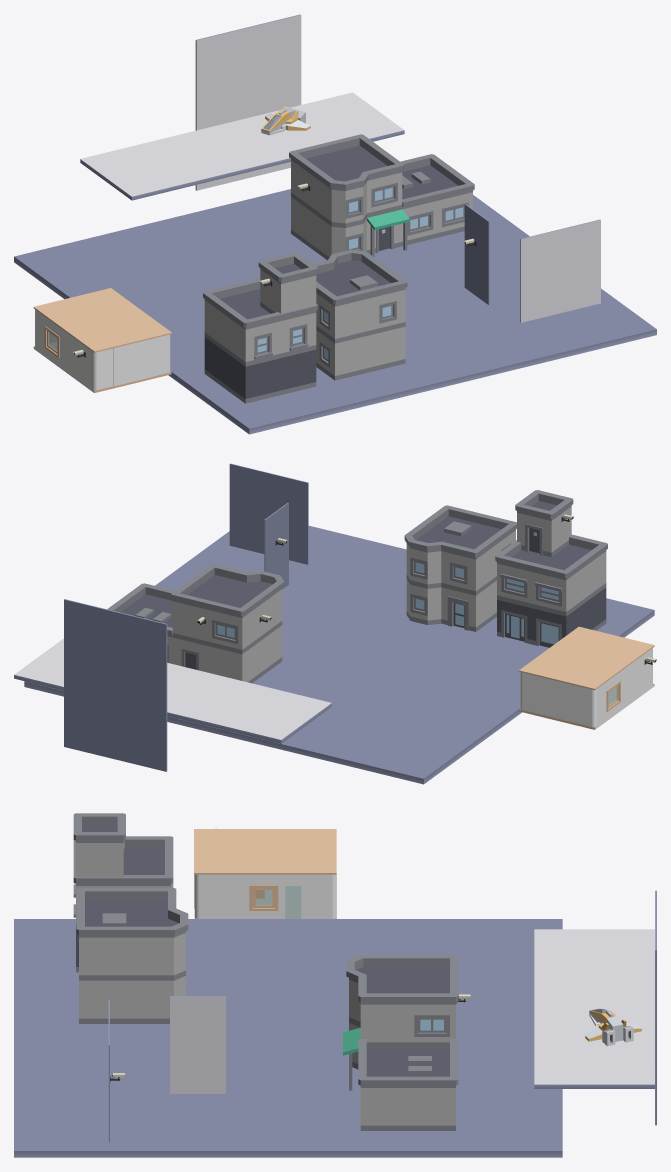
File: notbad233x.glb
The picture shows the model from 3 angles, top to bottom: view 1: azimuth 30°, elevation 25°; view 2: azimuth 150°, elevation 25°; view 3: azimuth 270°, elevation 25°; orthographic projection. The views are drawn at different scales.
Parts seen in each view (by area): view 1: floor, small_buildingE, small_buildingF, floor.004, floor.003, small_buildingB, floor.001, floorFull(Clone), floor.002, wallCornerRond(Clone), wall(Clone).001, craft_speederA (+2 smaller); view 2: floor, floor.003, small_buildingF, small_buildingE, small_buildingB, floor.004, floor.001, floorFull(Clone), wallCornerRond(Clone).002, floor.002, wallWindow(Clone).001, wallCornerRond(Clone) (+2 smaller); view 3: floor, small_buildingE, floor.004, small_buildingB, small_buildingF, floorFull(Clone), floor.002, wallWindow(Clone), wallCornerRond(Clone).005, wallCornerRond(Clone).007, craft_speederA, Floor.002.
Boxes of the visible parts, <box> form: floor: <box>14,189,656,434</box>; small_buildingE: <box>289,134,474,260</box>; small_buildingF: <box>203,252,317,403</box>; floor.004: <box>80,92,404,200</box>; floor.003: <box>195,14,301,190</box>; small_buildingB: <box>313,250,407,380</box>; floor.001: <box>520,219,600,322</box>; floorFull(Clone): <box>33,288,171,352</box>; floor.002: <box>464,204,489,304</box>; wallCornerRond(Clone): <box>70,335,112,390</box>; wall(Clone).001: <box>113,338,153,386</box>; craft_speederA: <box>261,106,310,135</box>; floor: <box>24,525,654,784</box>; floor.003: <box>64,599,167,771</box>; small_buildingF: <box>495,490,607,647</box>; small_buildingE: <box>107,564,284,683</box>; small_buildingB: <box>404,505,516,631</box>; floor.004: <box>14,638,331,743</box>; floor.001: <box>229,463,308,564</box>; floorFull(Clone): <box>519,626,654,690</box>; wallCornerRond(Clone).002: <box>537,676,604,727</box>; floor.002: <box>264,503,288,589</box>; wallWindow(Clone).001: <box>604,664,630,720</box>; wallCornerRond(Clone): <box>630,648,652,701</box>; floor: <box>14,919,562,1157</box>; small_buildingE: <box>343,954,458,1130</box>; floor.004: <box>534,929,654,1088</box>; small_buildingB: <box>76,888,188,1023</box>; small_buildingF: <box>73,813,173,972</box>; floorFull(Clone): <box>194,829,336,874</box>; floor.002: <box>170,996,225,1093</box>; wallWindow(Clone): <box>234,874,285,918</box>; wallCornerRond(Clone).005: <box>194,874,234,918</box>; wallCornerRond(Clone).007: <box>301,874,336,918</box>; craft_speederA: <box>585,1008,641,1046</box>; Floor.002: <box>194,886,336,918</box>.
Size of the model in its own units: 73.02 by 21.14 by 70.31.
52 materials, 3 textured.
